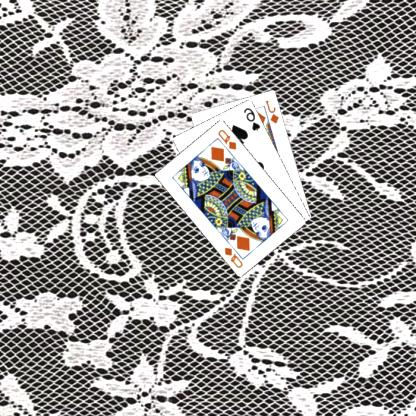6S: (243, 105, 263, 132)
JD: (264, 97, 283, 125)
QD: (223, 244, 246, 269), (217, 127, 239, 151)
